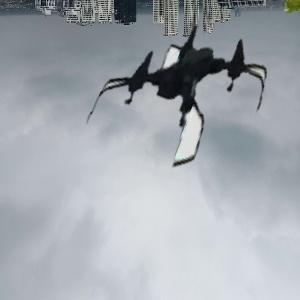drone: (94, 13, 268, 187)
